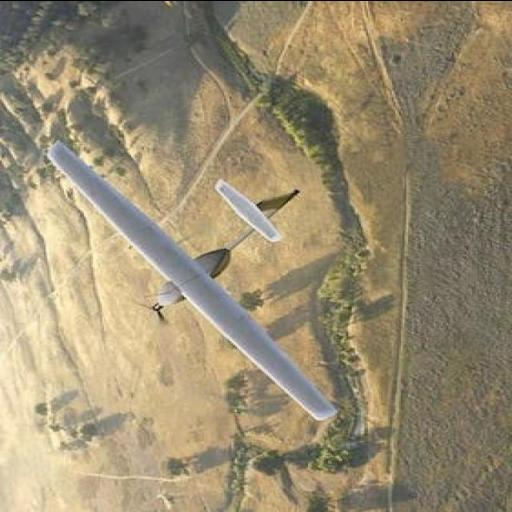uav: (42, 132, 364, 422)
